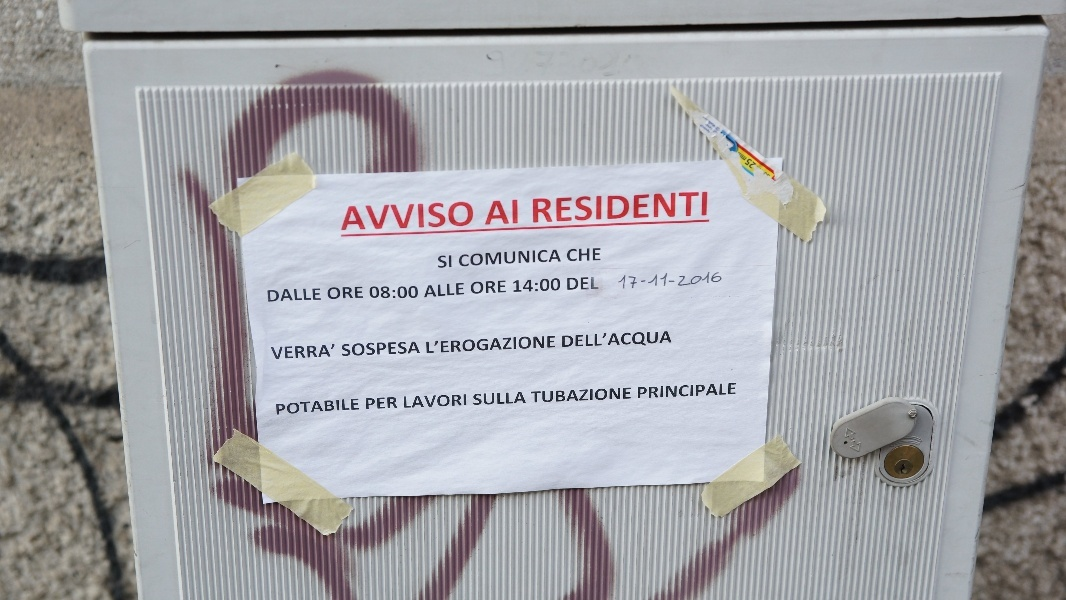text: (353, 201, 368, 235), (369, 201, 384, 235), (385, 201, 400, 235), (401, 201, 416, 235), (417, 201, 432, 235), (433, 201, 448, 235), (449, 201, 464, 235), (545, 191, 560, 225), (561, 191, 576, 225), (577, 191, 592, 225), (593, 191, 608, 225), (609, 191, 624, 225), (625, 191, 640, 225), (641, 191, 656, 225), (657, 191, 672, 225), (673, 191, 688, 225), (689, 191, 704, 225), (532, 191, 544, 225), (497, 199, 512, 226), (465, 201, 475, 235), (273, 340, 288, 361), (289, 340, 304, 361), (305, 340, 320, 361), (321, 340, 336, 361), (337, 340, 352, 361), (353, 340, 368, 361), (369, 340, 384, 361), (385, 340, 400, 361), (401, 340, 416, 361), (577, 329, 592, 350), (593, 329, 608, 350), (609, 329, 624, 350), (625, 329, 640, 350), (641, 329, 656, 350), (657, 329, 672, 350), (433, 335, 448, 355), (449, 335, 464, 355), (465, 335, 480, 355), (481, 335, 496, 355), (497, 335, 512, 355), (513, 335, 528, 355), (529, 335, 544, 355), (625, 271, 640, 291), (641, 271, 656, 291), (657, 271, 672, 291), (673, 271, 688, 291), (689, 271, 704, 291), (705, 271, 720, 291), (562, 329, 576, 350), (721, 382, 737, 400), (465, 249, 480, 268), (481, 249, 496, 268), (497, 249, 512, 268), (513, 249, 528, 268), (529, 249, 544, 268), (545, 249, 560, 268), (289, 397, 304, 416), (305, 397, 320, 416), (321, 397, 336, 416), (337, 397, 352, 416), (641, 382, 656, 400), (657, 382, 672, 400), (673, 382, 688, 400), (689, 382, 704, 400), (705, 382, 720, 400), (273, 287, 288, 304), (289, 287, 304, 304), (305, 287, 320, 304), (433, 282, 448, 299), (449, 282, 464, 299), (513, 277, 528, 294), (529, 277, 544, 294), (545, 277, 560, 294), (529, 387, 544, 404), (545, 387, 560, 404), (561, 387, 576, 404), (577, 387, 592, 404), (593, 387, 608, 404), (609, 387, 624, 404), (577, 247, 592, 263), (577, 276, 592, 292), (545, 335, 557, 355), (417, 393, 432, 409), (433, 393, 448, 409), (449, 393, 464, 409), (276, 397, 288, 416), (337, 285, 352, 300), (369, 285, 384, 300), (385, 285, 400, 300), (401, 285, 416, 300), (481, 280, 496, 295), (481, 392, 496, 407), (497, 392, 512, 407), (513, 392, 528, 407), (369, 397, 384, 411), (385, 397, 399, 411), (404, 393, 416, 409), (513, 199, 520, 226), (353, 285, 365, 300), (566, 247, 576, 263), (438, 255, 448, 270), (497, 280, 507, 295), (593, 247, 602, 263), (567, 276, 576, 292), (348, 201, 352, 235), (705, 191, 709, 225), (327, 285, 336, 300), (471, 280, 480, 295), (353, 397, 360, 416), (593, 276, 601, 292), (426, 335, 432, 355), (625, 387, 632, 404), (458, 249, 464, 268), (492, 199, 496, 226), (417, 340, 422, 361), (473, 392, 480, 407), (266, 287, 272, 304), (619, 271, 624, 291), (742, 155, 752, 162), (428, 282, 432, 299), (449, 255, 453, 270), (721, 271, 724, 291), (637, 382, 640, 400), (465, 393, 468, 409), (270, 340, 272, 361), (365, 397, 368, 411), (749, 158, 752, 171), (753, 158, 756, 171), (561, 249, 563, 268), (321, 287, 323, 304), (417, 285, 419, 300), (673, 329, 674, 350), (465, 282, 466, 299), (561, 277, 562, 294)
